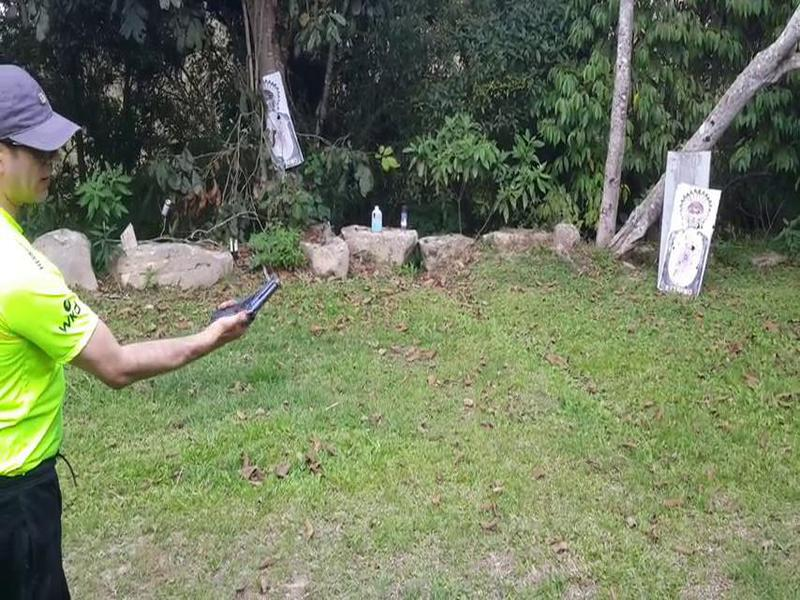Pistola: (204, 271, 285, 334)
